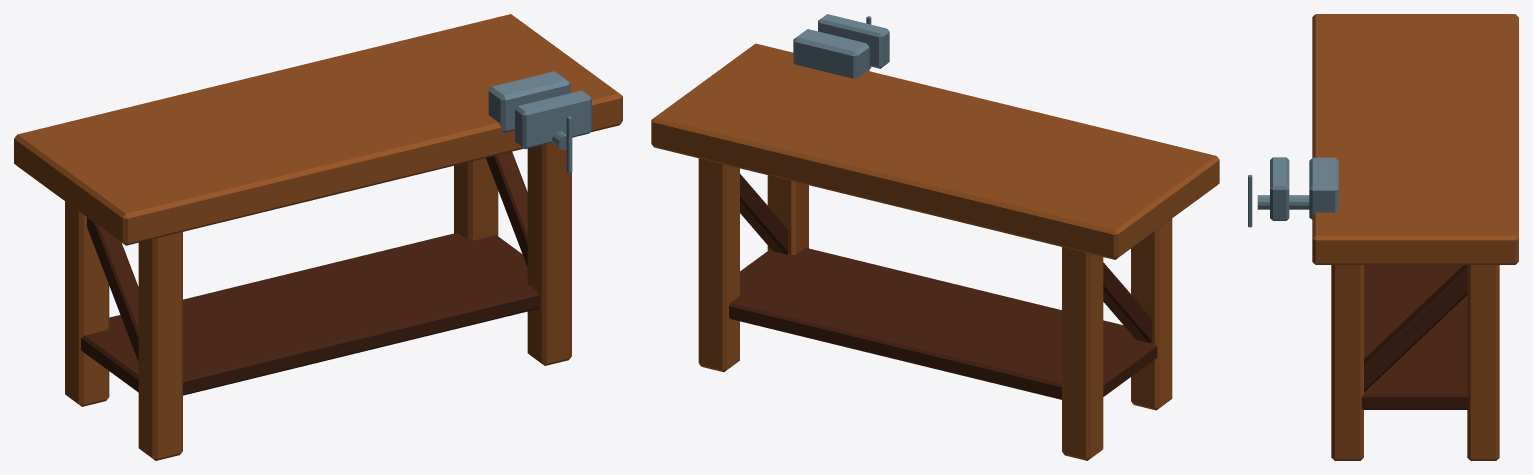
The model's file is EH_Workbench.fbx.
3 renders of one model, left to right at view 1: azimuth 30°, elevation 25°; view 2: azimuth 150°, elevation 25°; view 3: azimuth 270°, elevation 25°, orthographic. The views are drawn at different scales.
Visible parts, largest first — view 1: EH_Workbench; view 2: EH_Workbench; view 3: EH_Workbench.
Part boxes in pixels (<box>): EH_Workbench: <box>14,14,622,460</box>; EH_Workbench: <box>651,14,1219,460</box>; EH_Workbench: <box>1248,14,1518,460</box>.
Size of the model in its own units: 1.8 by 1 by 0.917.
